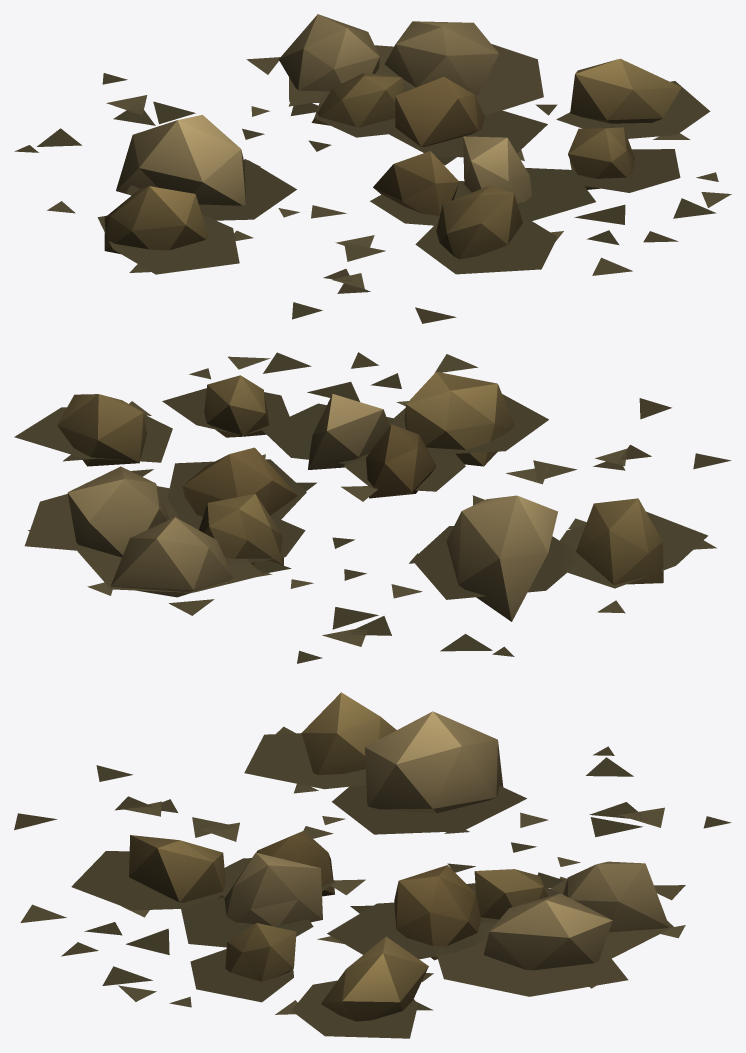
File: stone.glb
3 renders of one model, top to bottom at view 1: azimuth 30°, elevation 25°; view 2: azimuth 150°, elevation 25°; view 3: azimuth 270°, elevation 25°, orthographic. The views are drawn at different scales.
Visible parts, largest first — view 1: stone; view 2: stone; view 3: stone.
Boxes of the visible parts, x1,y1,x2,y2 form: stone: [14, 14, 731, 323]; stone: [14, 352, 730, 663]; stone: [14, 692, 731, 1038].
Bounding box in the file's own units: 1.42 × 0.1987 × 1.38.
